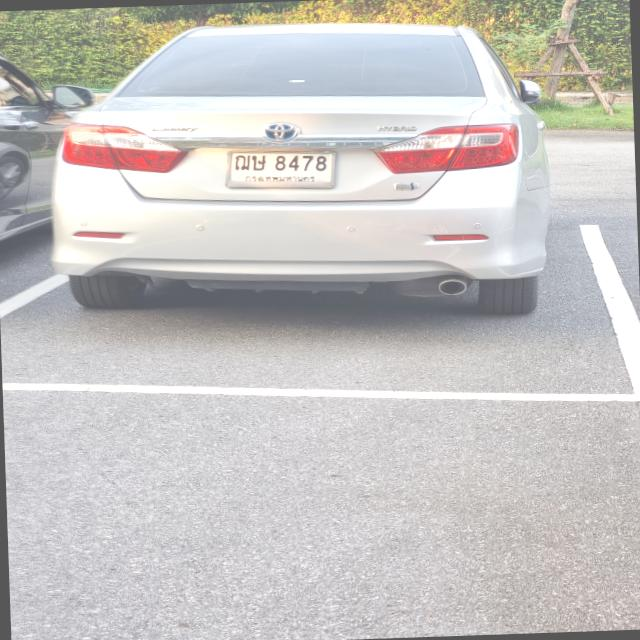license_plate: (222, 139, 342, 191)
